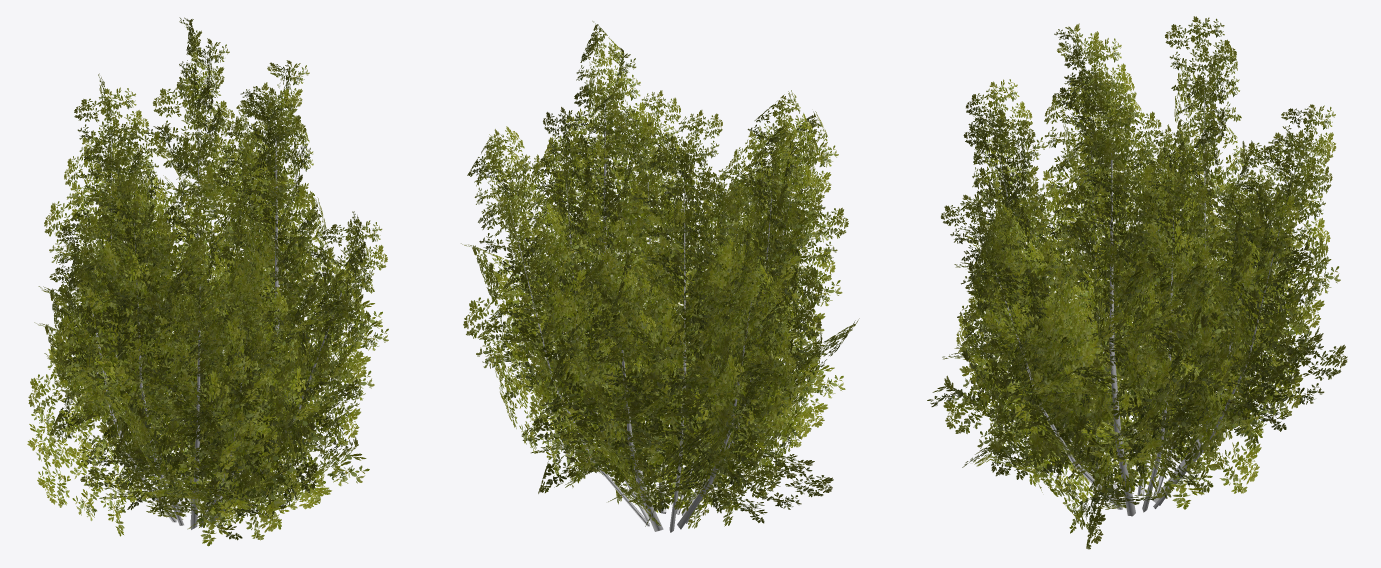
Rendered from Spanish_Broom_Model_0.obj.
3 views of the same model, side by side, from view 1: azimuth 30°, elevation 25°; view 2: azimuth 150°, elevation 25°; view 3: azimuth 270°, elevation 25° (orthographic). The views are drawn at different scales.
Visible parts, largest first — view 1: Foliage, Bark; view 2: Foliage, Bark; view 3: Foliage, Bark.
Part boxes in pixels (box(x1,y1,x2,y2)): Foliage: box(27, 17, 388, 546); Bark: box(92, 110, 343, 529); Foliage: box(461, 21, 859, 528); Bark: box(508, 102, 795, 532); Foliage: box(927, 16, 1347, 549); Bark: box(996, 89, 1291, 516).
Size of the model in its own units: 2.36 by 3 by 2.56.
